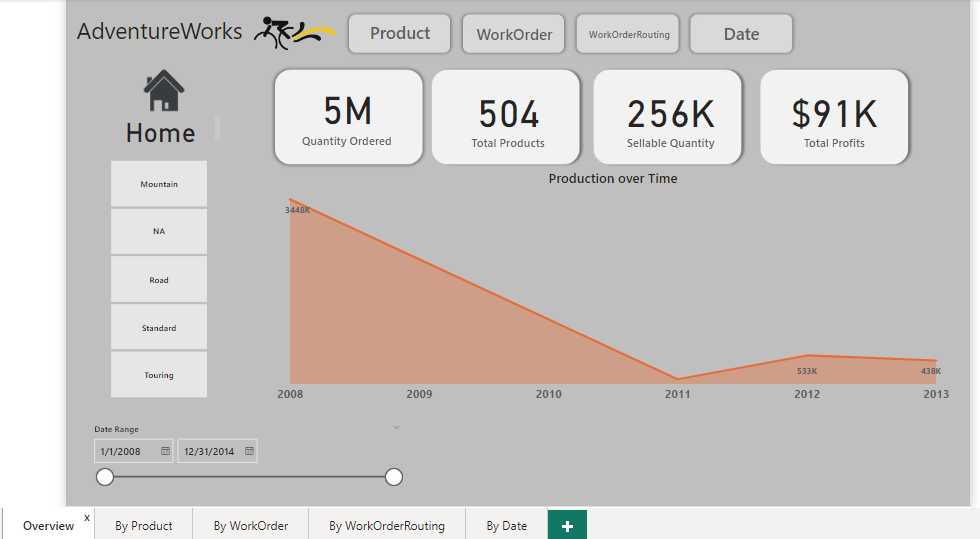

The page's visual inventory and layout, read from the dashboard file:
{"tool":"powerbi","page":{"name":"Overview","canvas":[1280,720],"ordinal":0},"visuals":[{"type":"card","fields":{"Values":["All Mesures.Total Units"]},"box":[523.4,100.4,203.7,130.1],"z":0},{"type":"card","fields":{"Values":["All Mesures.Total Profits"]},"box":[985.9,100.4,202.3,130.1],"z":1000},{"type":"actionButton","title":"Active WOR","box":[727.1,22.6,140,52.3],"z":2000},{"type":"actionButton","title":"Active P","box":[397.5,17,149.9,59.4],"z":3000},{"type":"actionButton","title":"Actice D","box":[885.5,22.6,140,52.3],"z":4000},{"type":"actionButton","title":"Active WO","box":[564.4,22.6,140,52.3],"z":5000},{"type":"card","fields":{"Values":["Sum(Production_WorkOrder.OrderQty)"]},"box":[292.8,100.4,209.4,121.7],"z":6000},{"type":"card","fields":{"Values":["All Measures.Sold Qty"]},"box":[748.3,100.4,213.6,130.1],"z":7000},{"type":"textbox","box":[9.9,17,254.6,67.9],"z":8000},{"type":"image","box":[254.6,17,133,63.7],"z":9000},{"type":"areaChart","title":"Production over Time","fields":{"Category":["Calendar.Year","Calendar.Month"],"Y":["Sum(Production_WorkOrder.OrderQty)"]},"box":[292.8,240.5,961.9,339.5],"z":10000},{"type":"textbox","box":[52.3,161.3,171.2,48.1],"z":11000},{"type":"image","box":[96.2,91.9,84.9,73.6],"z":12000},{"type":"slicer","fields":{"Values":["Calendar.Date"]},"box":[26.9,594.1,458.3,110.3],"z":13000},{"type":"slicer","title":"Filter by Product Line","fields":{"Values":["Production_Product.ProductLine"]},"box":[38.2,222.1,185.3,348],"z":14000}]}

Visuals, with their boxes on the page's 1280x720 design canvas (x1, y1, x2, y2). These are canvas units, not pixel positions in the 980x539 screenshot, which may show the page scaled, cropped or inside an application window:
card - All Mesures.Total Units: <bbox>523, 100, 727, 230</bbox>
card - All Mesures.Total Profits: <bbox>986, 100, 1188, 230</bbox>
"Active WOR" actionButton: <bbox>727, 23, 867, 75</bbox>
"Active P" actionButton: <bbox>398, 17, 547, 76</bbox>
"Actice D" actionButton: <bbox>886, 23, 1026, 75</bbox>
"Active WO" actionButton: <bbox>564, 23, 704, 75</bbox>
card - Sum(Production_WorkOrder.OrderQty): <bbox>293, 100, 502, 222</bbox>
card - All Measures.Sold Qty: <bbox>748, 100, 962, 230</bbox>
textbox: <bbox>10, 17, 264, 85</bbox>
image: <bbox>255, 17, 388, 81</bbox>
"Production over Time" areaChart: <bbox>293, 240, 1255, 580</bbox>
textbox: <bbox>52, 161, 224, 209</bbox>
image: <bbox>96, 92, 181, 166</bbox>
slicer - Calendar.Date: <bbox>27, 594, 485, 704</bbox>
"Filter by Product Line" slicer: <bbox>38, 222, 224, 570</bbox>
